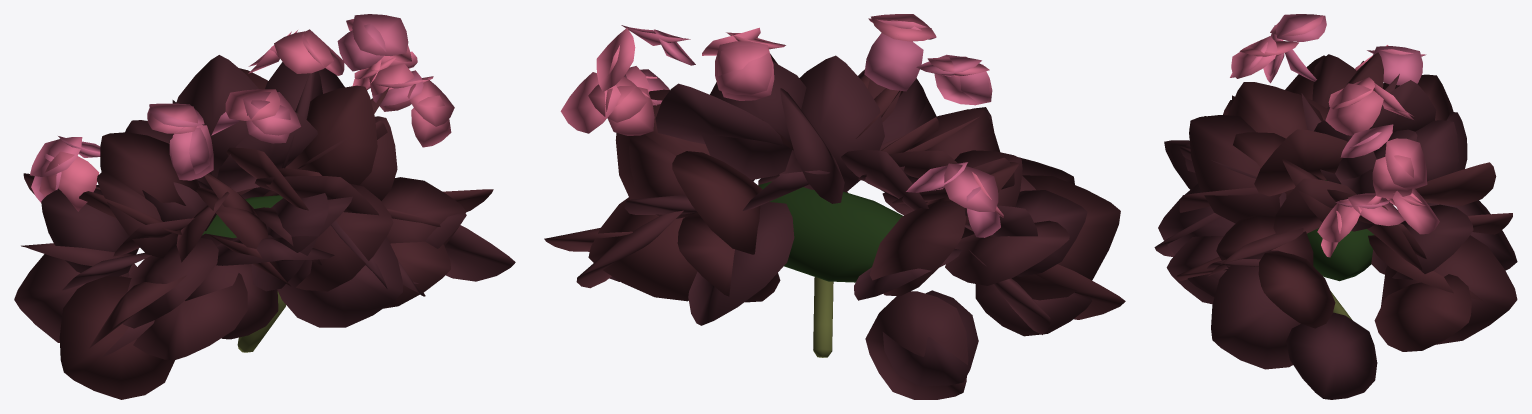
The model's file is box_begonia_pink.glb.
3 renders of one model, left to right at view 1: azimuth 30°, elevation 25°; view 2: azimuth 150°, elevation 25°; view 3: azimuth 270°, elevation 25°, orthographic. The views are drawn at different scales.
Parts seen in each view (by area): view 1: Sammel Pflanze, Sammel Blatt, Sammel Putz; view 2: Sammel Pflanze, Sammel Blatt, Sammel Putz; view 3: Sammel Pflanze, Sammel Blatt.
Boxes of the visible parts, x1=… form: Sammel Pflanze: x1=14, y1=14, x2=515, y2=399; Sammel Blatt: x1=202, y1=195, x2=282, y2=238; Sammel Putz: x1=237, y1=291, x2=285, y2=352; Sammel Pflanze: x1=544, y1=14, x2=1125, y2=399; Sammel Blatt: x1=758, y1=181, x2=902, y2=282; Sammel Putz: x1=813, y1=277, x2=833, y2=357; Sammel Pflanze: x1=1154, y1=14, x2=1517, y2=399; Sammel Blatt: x1=1307, y1=180, x2=1374, y2=281.
Size of the model in its own units: 0.3136 by 0.1932 by 0.2268.
